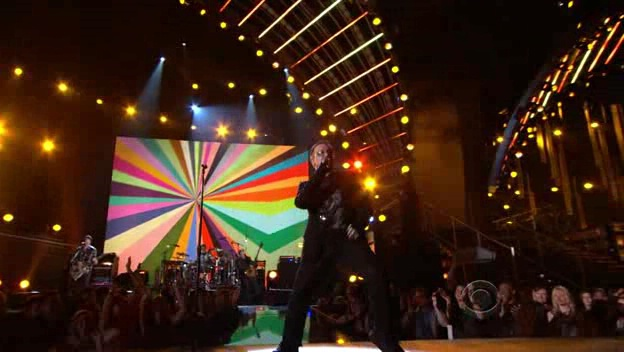person: (297, 145, 362, 265), (294, 145, 359, 265), (300, 145, 365, 265), (297, 142, 362, 262), (297, 148, 362, 268)
target_negative: (88, 252, 522, 266), (386, 81, 411, 279), (408, 40, 422, 286), (551, 264, 603, 328), (144, 173, 167, 274), (553, 205, 565, 317)
